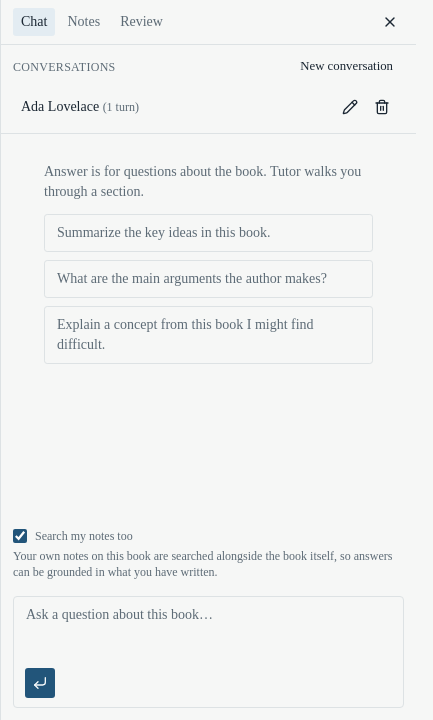
Test: renaming a conversation from the dock › persists the new title and shows it in the list without a reload
Click the button named "Rename Ada Lovelace" at (350, 107), box [336, 93, 364, 121]
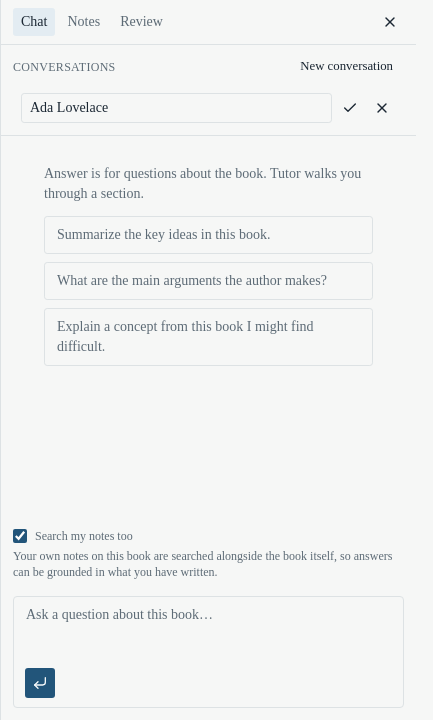
Replace the text in the field named "New title" with "Algorithms" at (176, 108), box [21, 93, 332, 123]
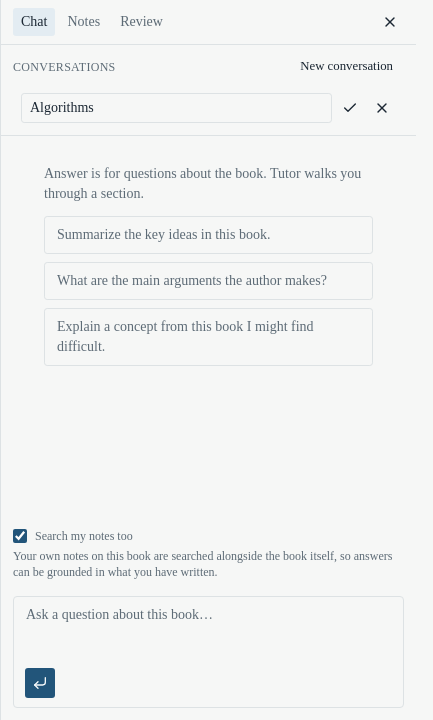
Click the button named "Save title" at (350, 108), box [336, 94, 364, 122]
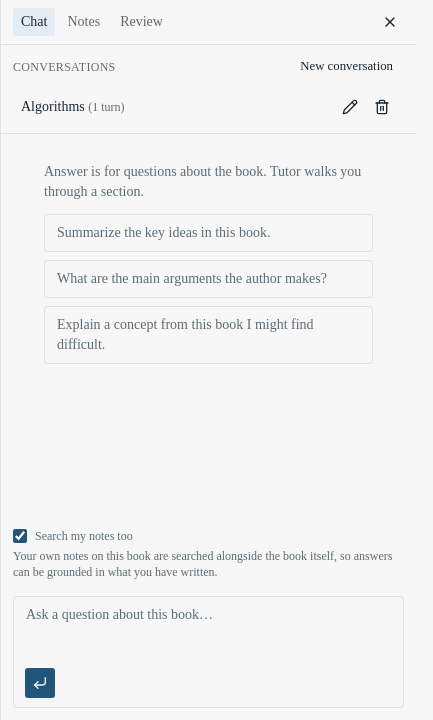
Now the button with aria-label "Resume Algorithms" is shown, box [21, 97, 332, 117]
